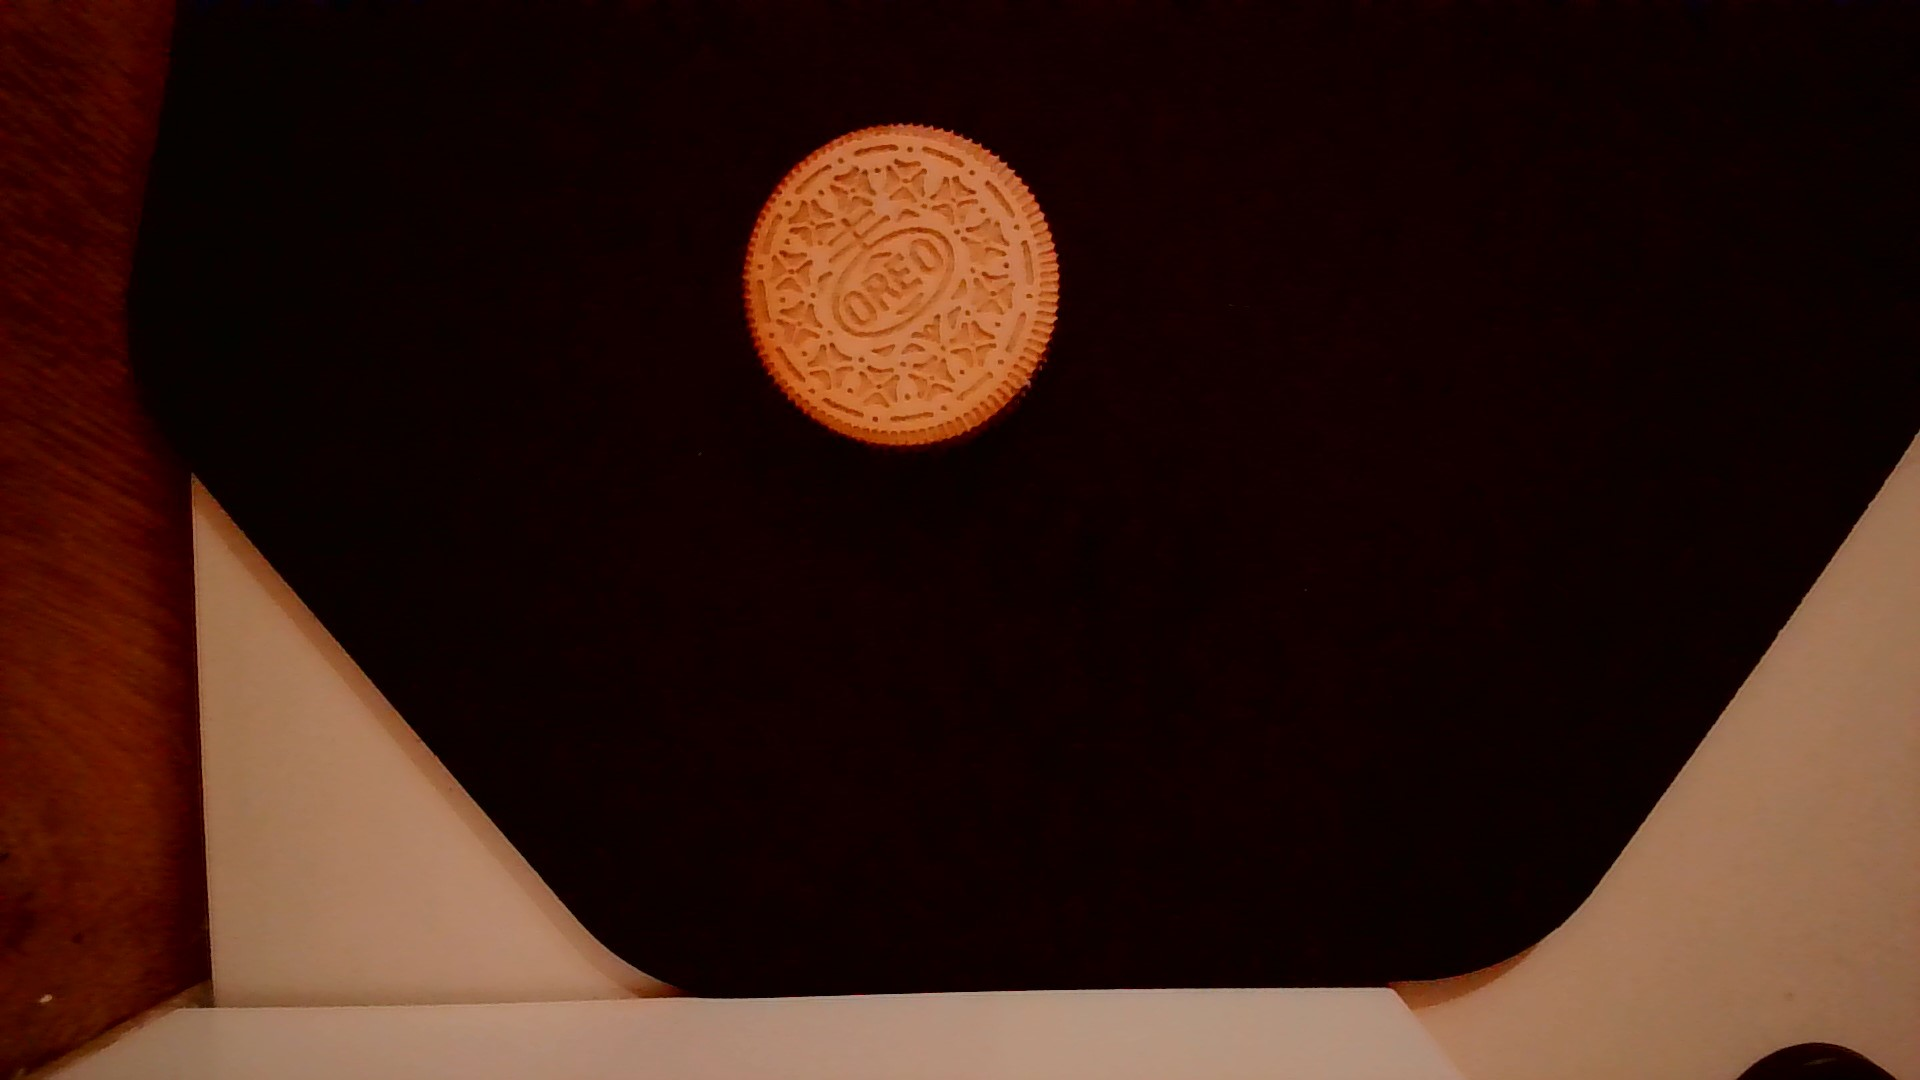Oréo: (731, 113, 1072, 463)
